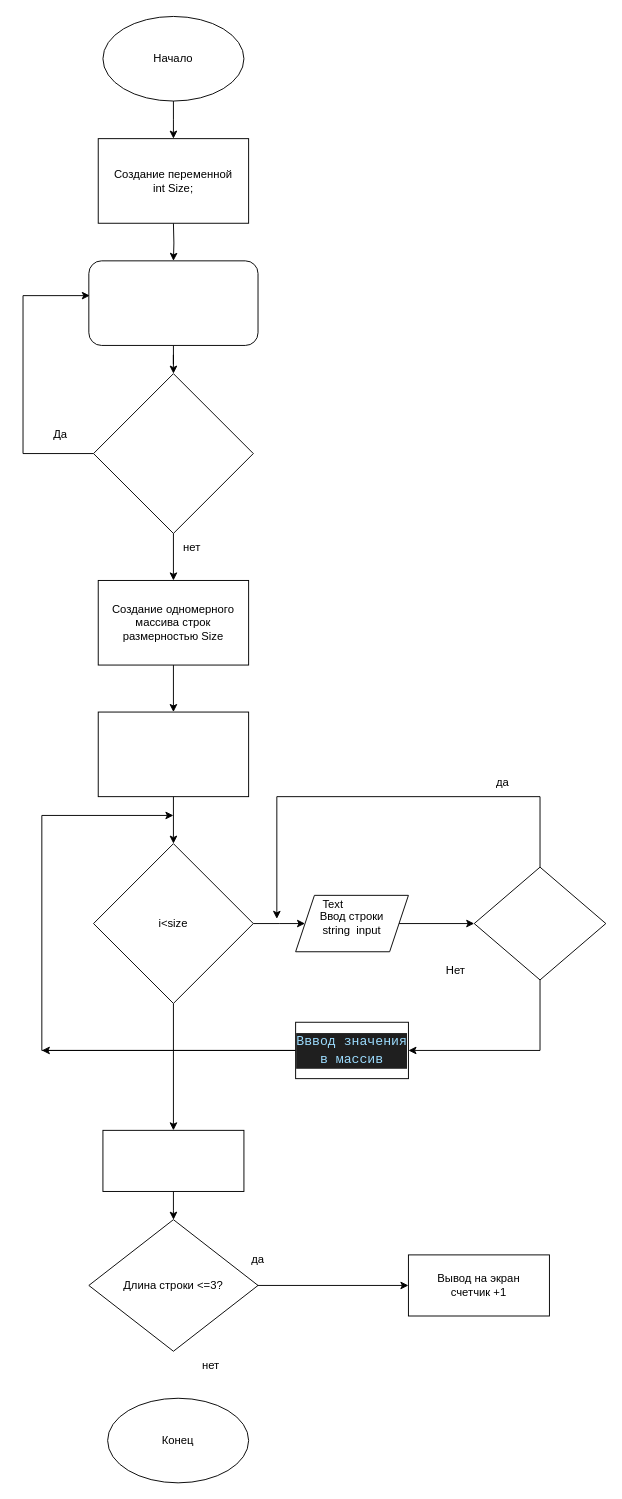
The diagram is 622 pixels wide and 1499 high, and some of its shapes have lost their labels. The shapes that lost their labels are listed below. From the top down, each one's centre as x and y in pixels, then its label:
(x=173, y=302): Вывод на экран сообщения "введите значение Size целое положительное число"
(x=173, y=453): Проверка на не нулевое значение size<=0
(x=173, y=754): Заполнение массива int i=0;
(x=539, y=923): Проверка на пустое значение или 0
(x=173, y=1160): Вызов Метода FilterAndPrintShortStrings
